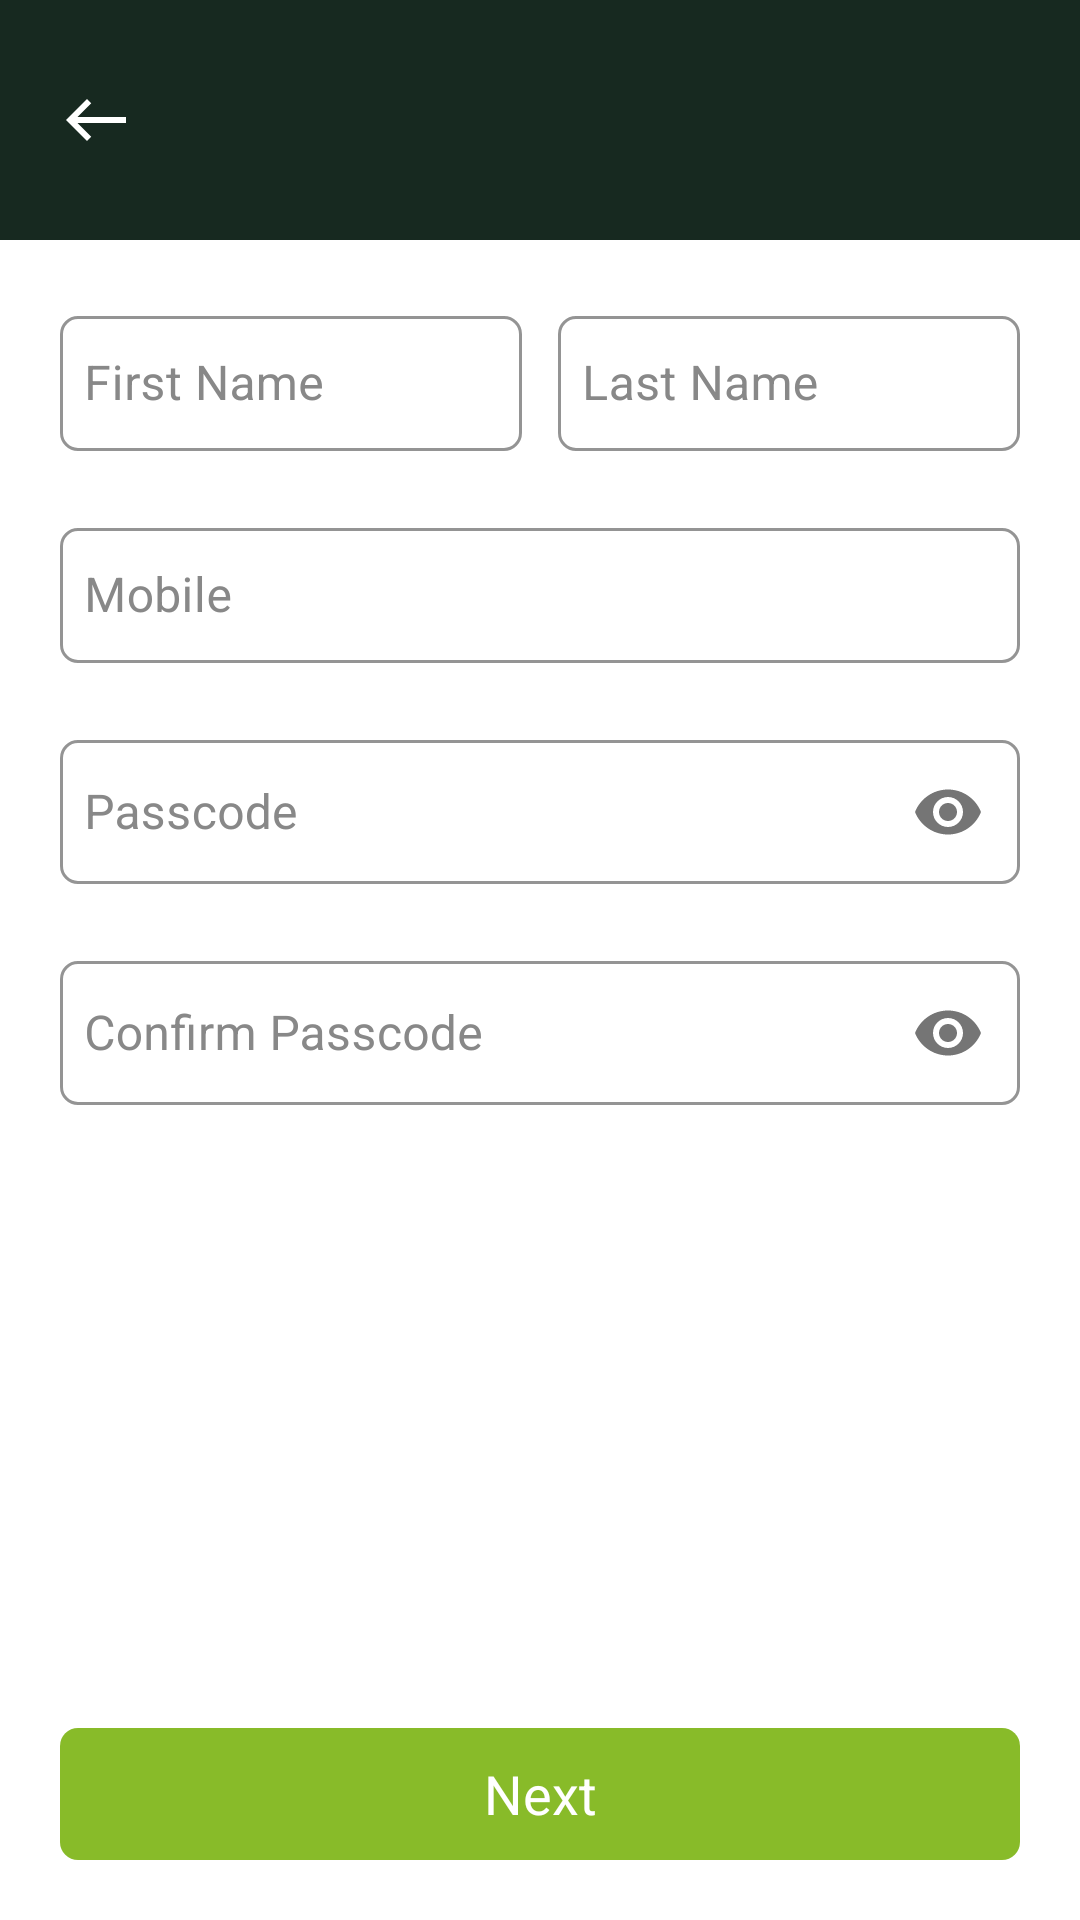

Locate icon controls on the screen. Image size 1080×1920, boxes as region(x1, y1, x2, y2).
arrow back: region(66, 99, 126, 141)
